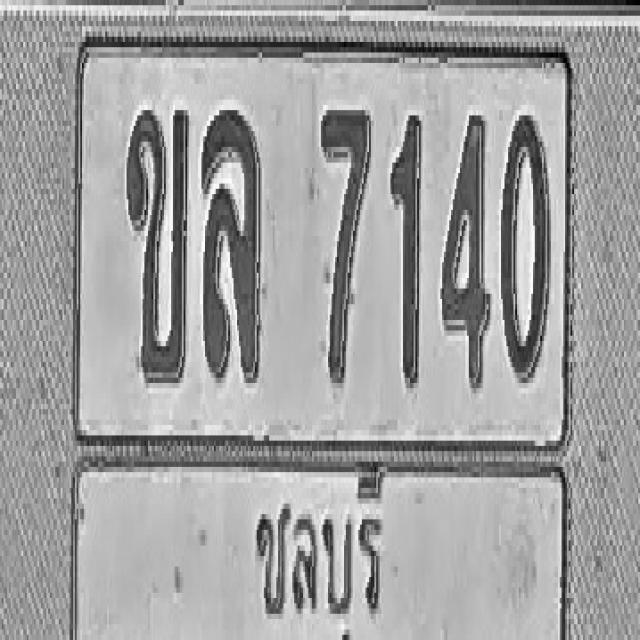0: (501, 110, 549, 378)
1: (389, 110, 422, 388)
11KhorKhai: (126, 105, 188, 383)
4: (442, 110, 489, 388)
45LorLing: (202, 107, 260, 380)
7: (320, 105, 370, 383)
Chonburi: (244, 440, 392, 640)
